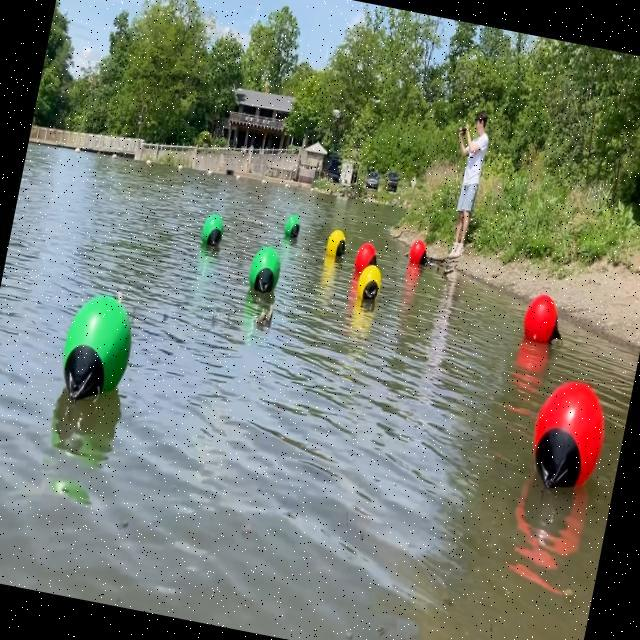buoy: (522, 374, 614, 499), (56, 286, 142, 409), (518, 292, 570, 350), (248, 244, 284, 298), (354, 264, 383, 307), (198, 210, 225, 252), (352, 240, 382, 272), (322, 229, 348, 261), (282, 212, 304, 243), (407, 238, 430, 266)
